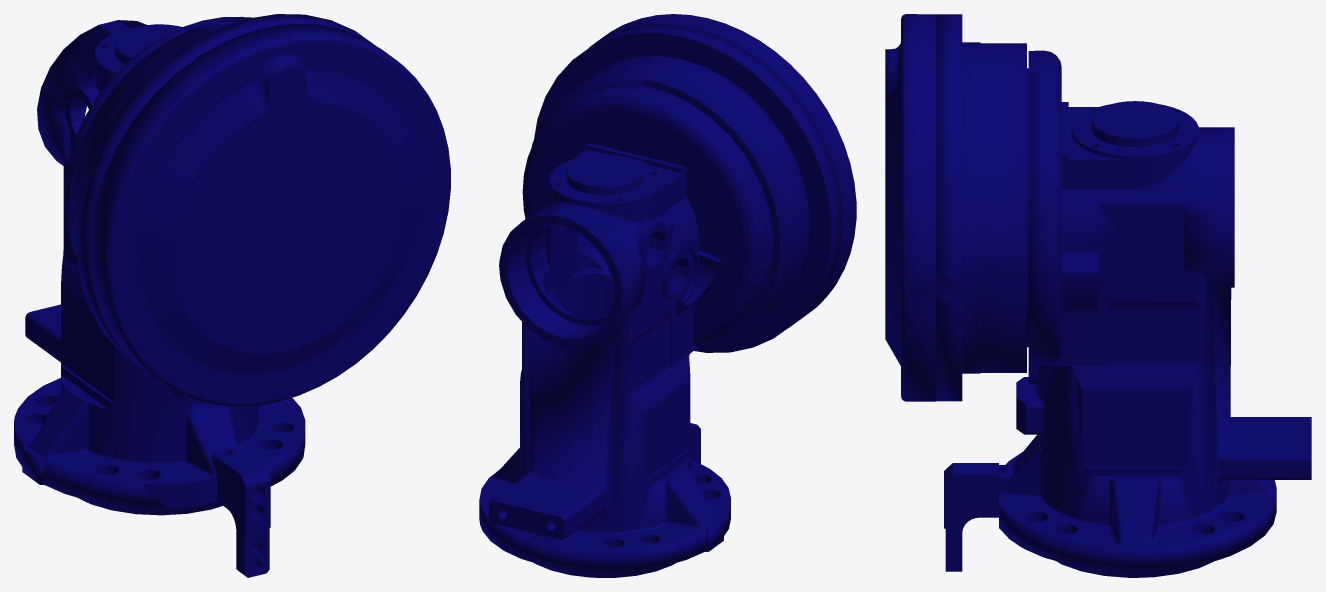
The model's file is R_axis.dae.
The picture shows the model from 3 angles, left to right: view 1: azimuth 30°, elevation 25°; view 2: azimuth 150°, elevation 25°; view 3: azimuth 270°, elevation 25°; orthographic projection. The views are drawn at different scales.
Parts seen in each view (by area): view 1: ES165D Raxis; view 2: ES165D Raxis; view 3: ES165D Raxis.
Boxes of the visible parts, <box> form: ES165D Raxis: <box>14,14,450,577</box>; ES165D Raxis: <box>479,14,856,577</box>; ES165D Raxis: <box>885,14,1311,577</box>.
Size of the model in its own units: 0.222 by 0.244 by 0.338.
